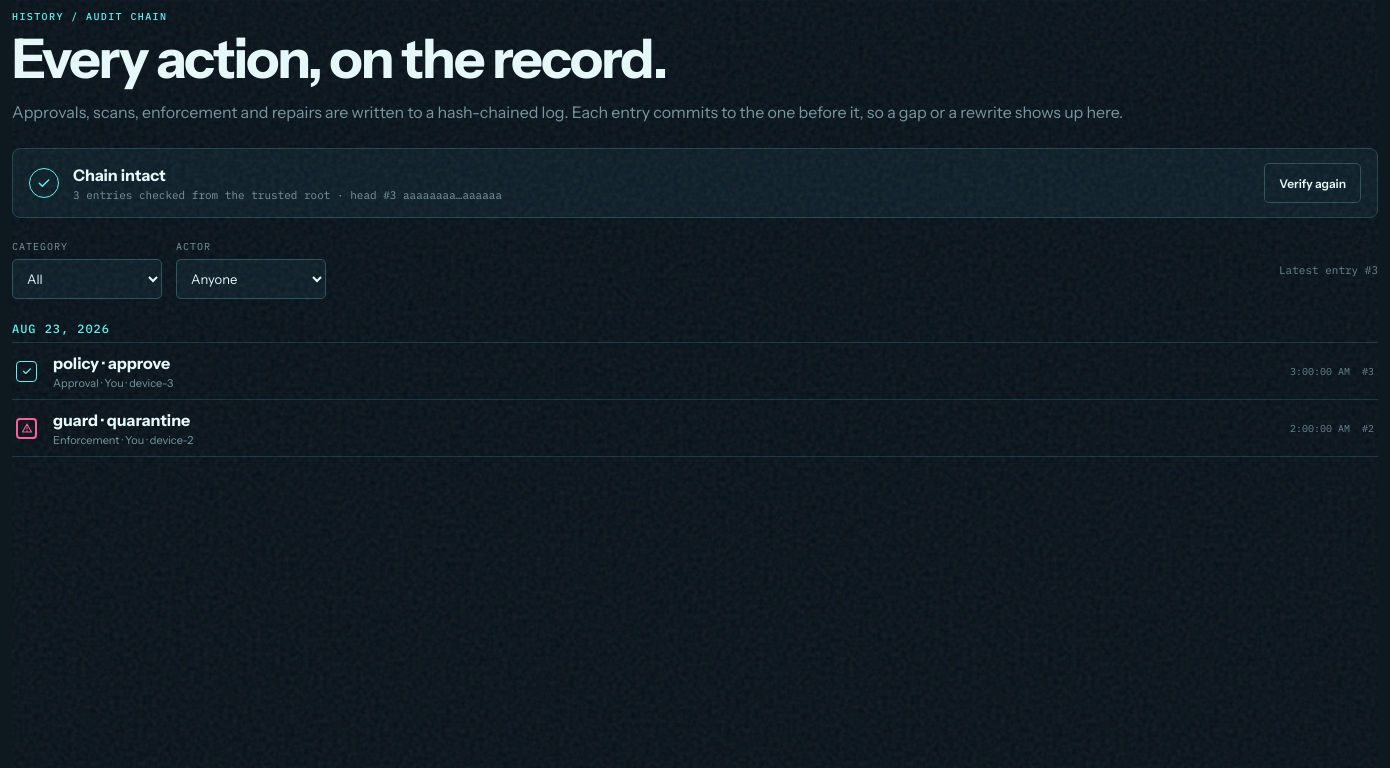
Test: HistoryView › lists entries newest first, shows the intact chain, and expands detail
Check: the text "Chain intact" is shown, box [73,165,166,185]
Check: the text "3 entries checked from the trusted root" is shown, box [73,188,502,202]
Click the button "guard · quarantine".
click(122, 420)  # box [12,400,1378,456]
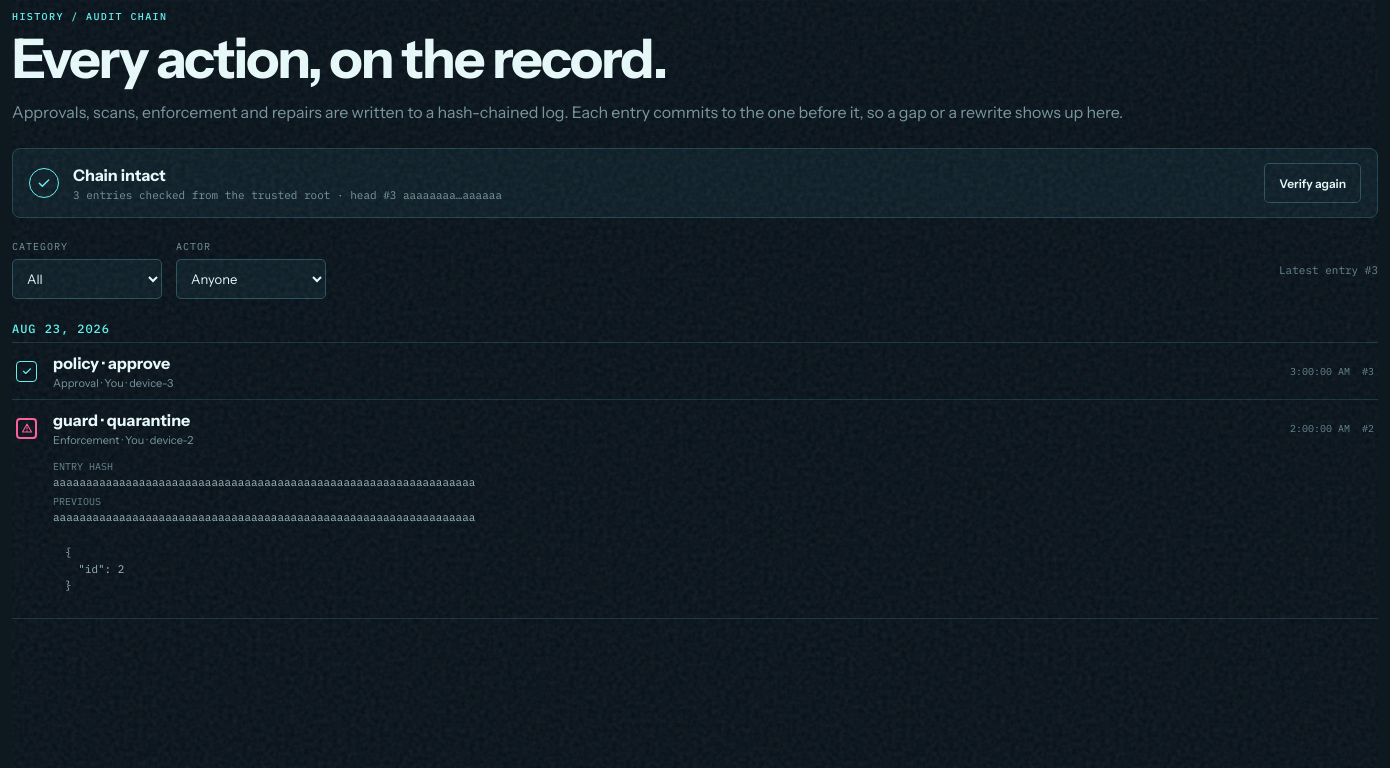
Check: the text "{ \"id\": 2 }" shows "\"id\": 2", box [65,545,124,592]
